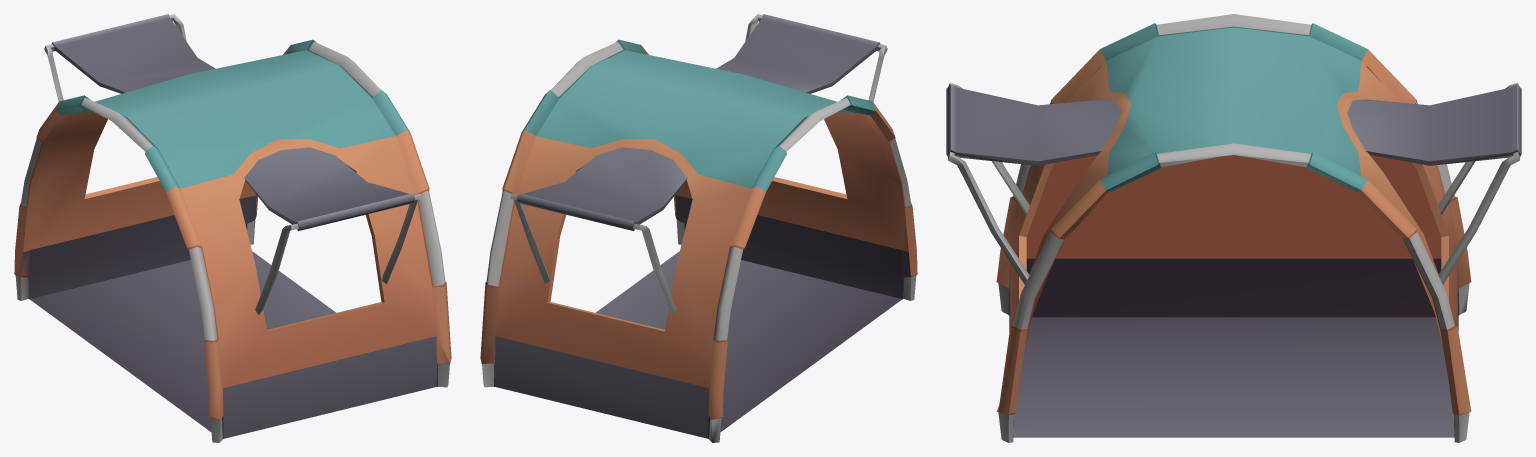
Rendered from Tent.glb.
3 views of the same model, side by side, from view 1: azimuth 30°, elevation 25°; view 2: azimuth 150°, elevation 25°; view 3: azimuth 270°, elevation 25° (orthographic). The views are drawn at different scales.
Visible parts, largest first — view 1: Tent; view 2: Tent; view 3: Tent.
Part boxes in pixels (left/top/right/bottom): Tent: left=14, top=14, right=451, bottom=442; Tent: left=480, top=14, right=917, bottom=442; Tent: left=946, top=14, right=1521, bottom=442.
Size of the model in its own units: 2.08 by 2.1 by 3.68.
